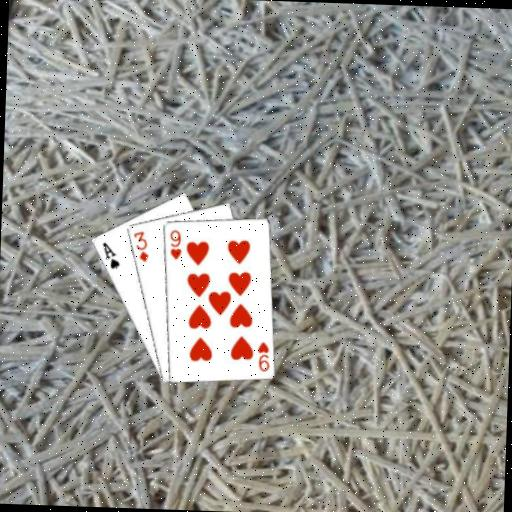3D: (130, 227, 151, 263)
9H: (166, 226, 184, 261), (253, 338, 271, 373)
AS: (98, 239, 122, 270)
